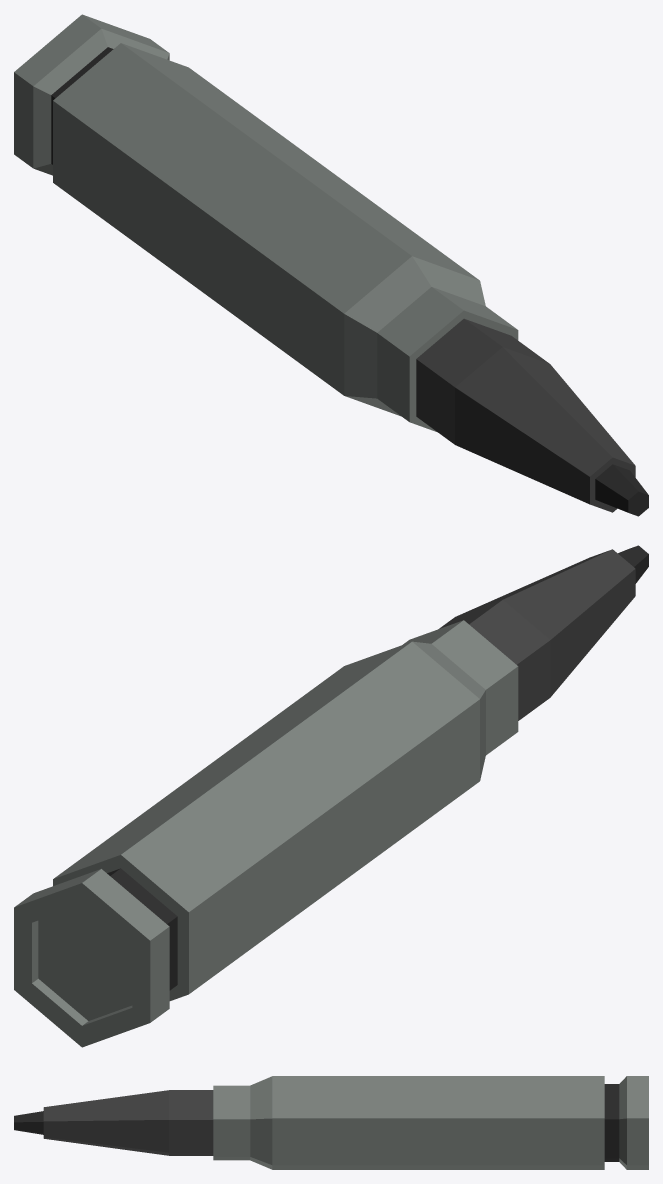
File: Bullet_C.fbx
3 renders of one model, top to bottom at view 1: azimuth 30°, elevation 25°; view 2: azimuth 150°, elevation 25°; view 3: azimuth 270°, elevation 25°, orthographic. The views are drawn at different scales.
Visible parts, largest first — view 1: Bullet_C, Bullet_C_Part; view 2: Bullet_C, Bullet_C_Part; view 3: Bullet_C, Bullet_C_Part.
Part boxes in pixels (x1,y1,x2,y2): Bullet_C: (14, 14, 518, 432); Bullet_C_Part: (416, 318, 648, 516); Bullet_C: (14, 620, 518, 1047); Bullet_C_Part: (439, 545, 648, 720); Bullet_C: (213, 1076, 648, 1169); Bullet_C_Part: (14, 1090, 213, 1155).
Bounding box in the file's own units: 0.0121 × 0.014 × 0.086.
